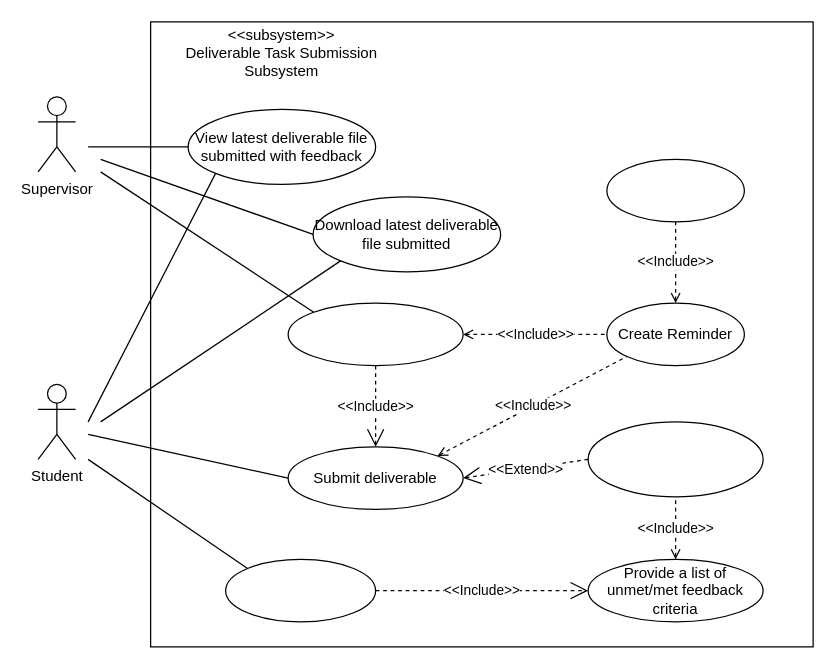
Image size: 835x669. Some labels were removed from this diagram. The centre of each missing label's shape, as x and y in pixels:
AI re-submission feedback compliance checking: point (675, 459)
Override unmet feedback criteria: point (300, 590)
Provide deliverable feedback criteria: point (375, 334)
Send Email notification: point (675, 190)
